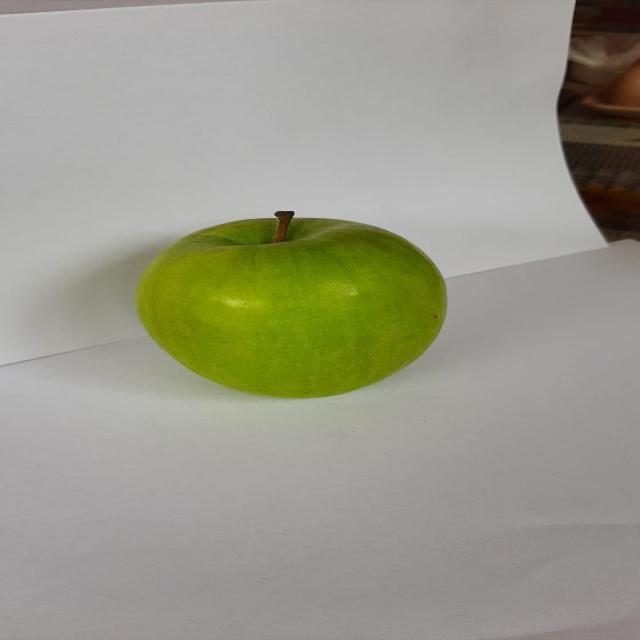50-_ripeness: (113, 206, 469, 412)
